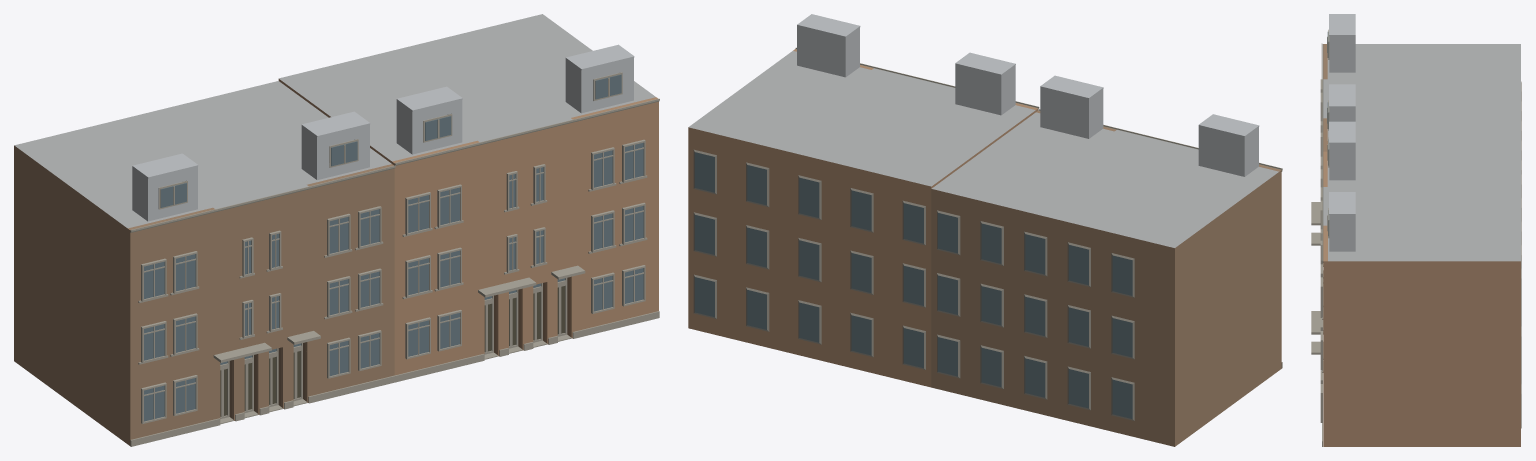
File: chunk-face-haen-3-31-r2.glb
3 renders of one model, left to right at view 1: azimuth 30°, elevation 25°; view 2: azimuth 150°, elevation 25°; view 3: azimuth 270°, elevation 25°, orthographic. The views are drawn at different scales.
Visible parts, largest first — view 1: face-haen-3-31-r2; view 2: face-haen-3-31-r2; view 3: face-haen-3-31-r2.
Part boxes in pixels (x1,y1,x2,y2): face-haen-3-31-r2: (14,14,659,446); face-haen-3-31-r2: (688,14,1282,446); face-haen-3-31-r2: (1311,14,1521,446).
Bounding box in the file's own units: 25.61 × 12.22 × 10.39.
